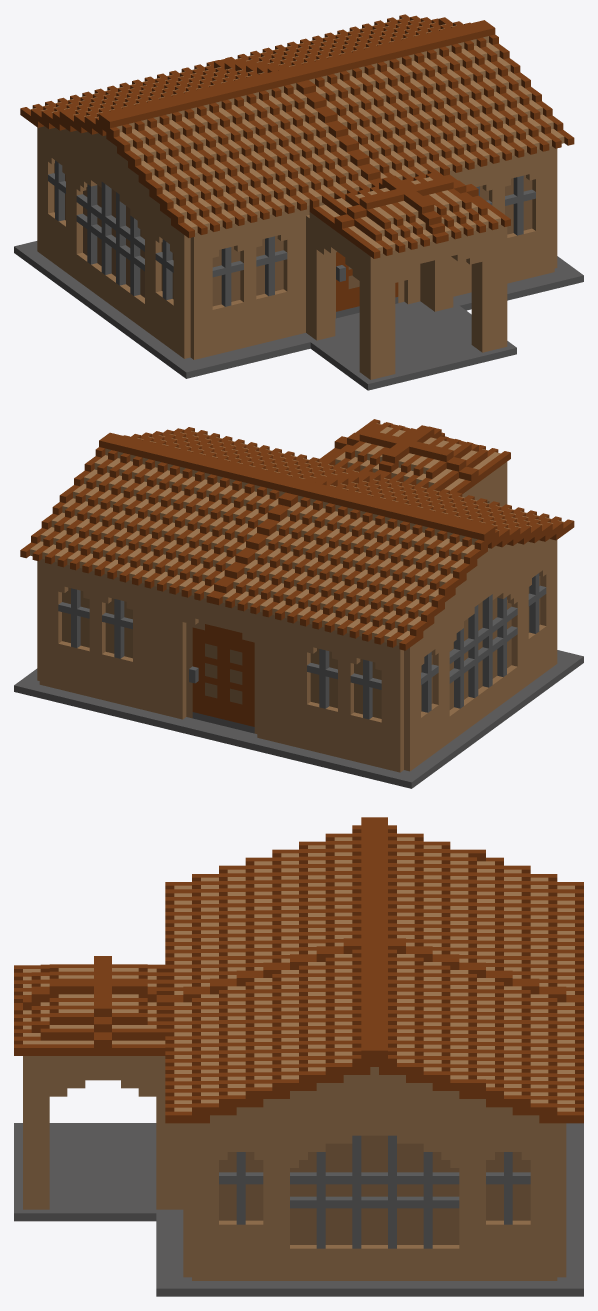
File: bld_house5a.obj
3 renders of one model, top to bottom at view 1: azimuth 30°, elevation 25°; view 2: azimuth 150°, elevation 25°; view 3: azimuth 270°, elevation 25°, orthographic. The views are drawn at different scales.
Bounding box in the file's own units: 64 × 30 × 64.
